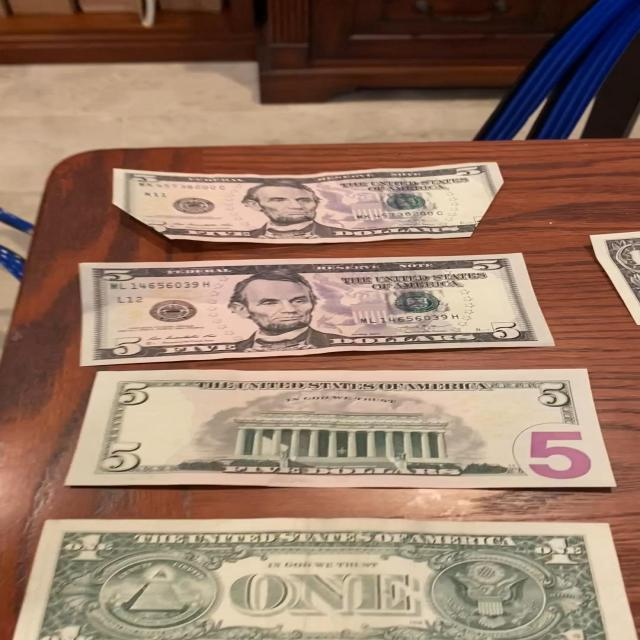1-Back: (0, 511, 640, 640)
5-Back: (59, 368, 625, 494)
5-Front: (70, 250, 554, 368), (102, 158, 513, 248)
